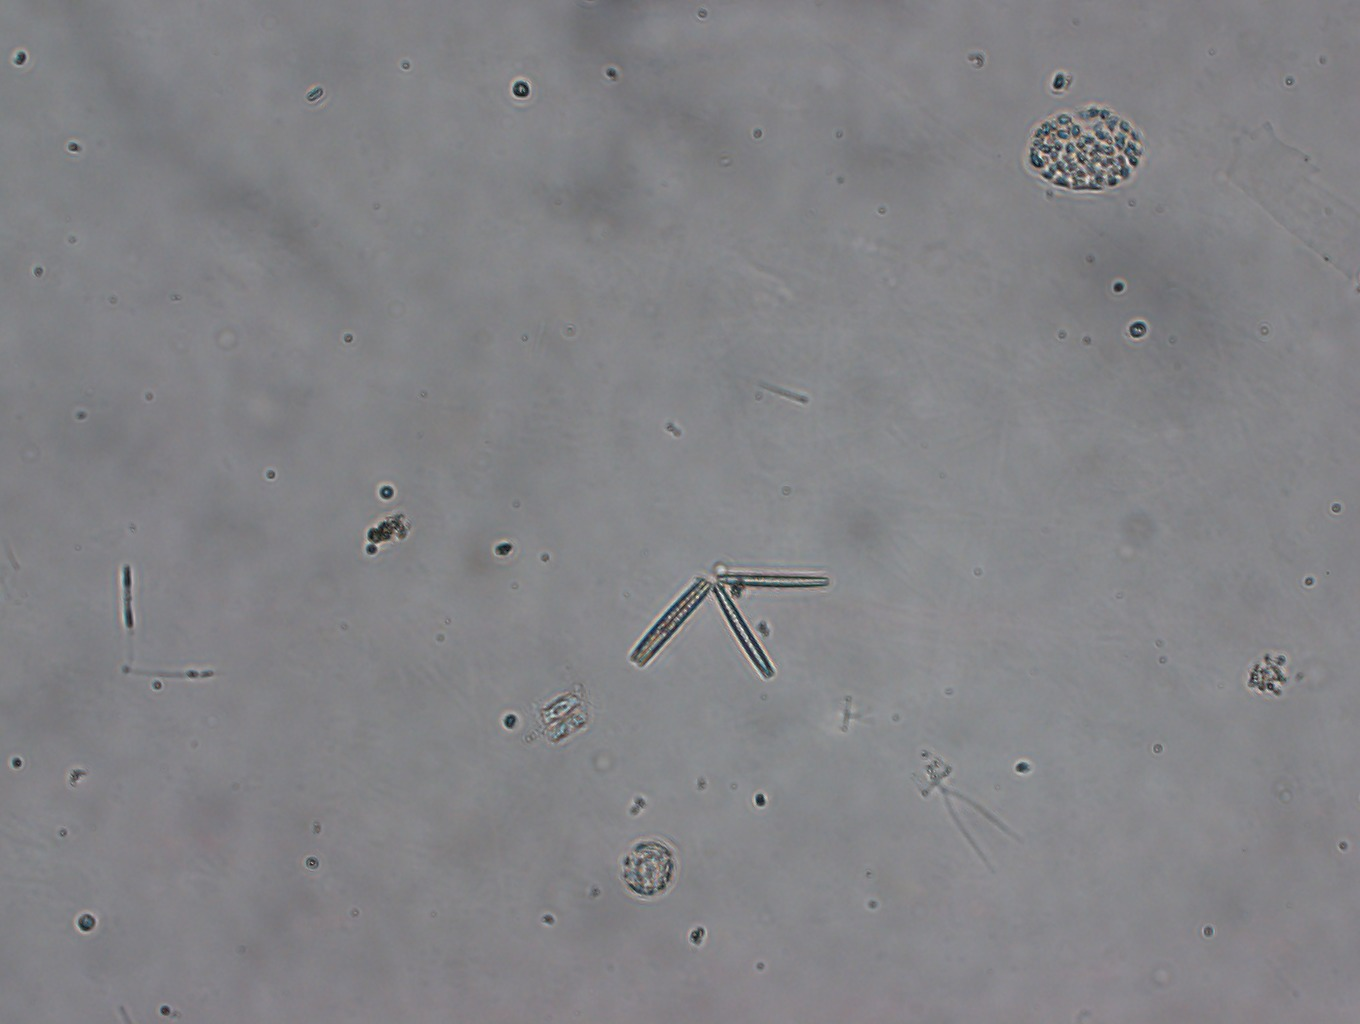thalassionema nitzschioides: (628, 569, 829, 682)
